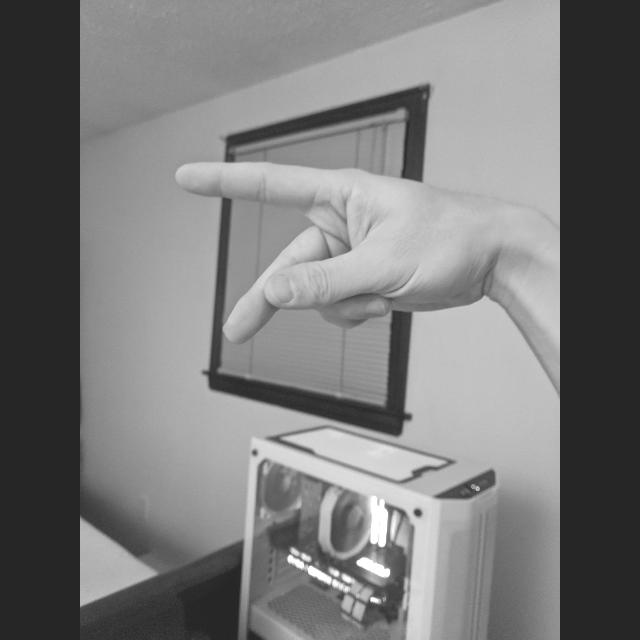P: (172, 156, 502, 352)
